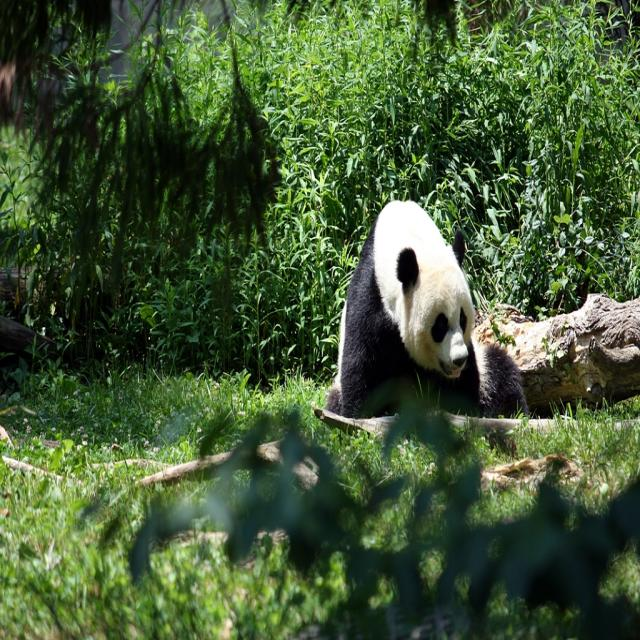panda: (323, 194, 530, 420)
